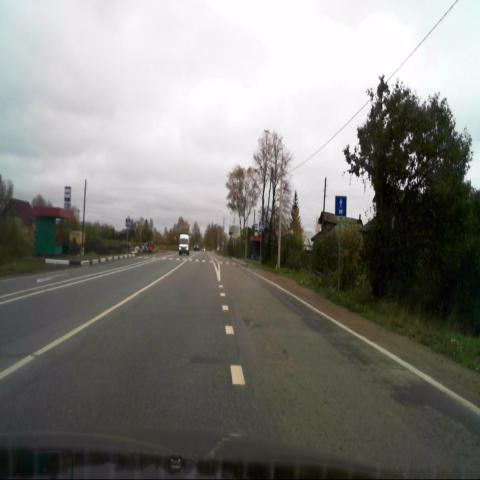5_14: (335, 195, 347, 216)
5_16: (64, 188, 72, 208)
